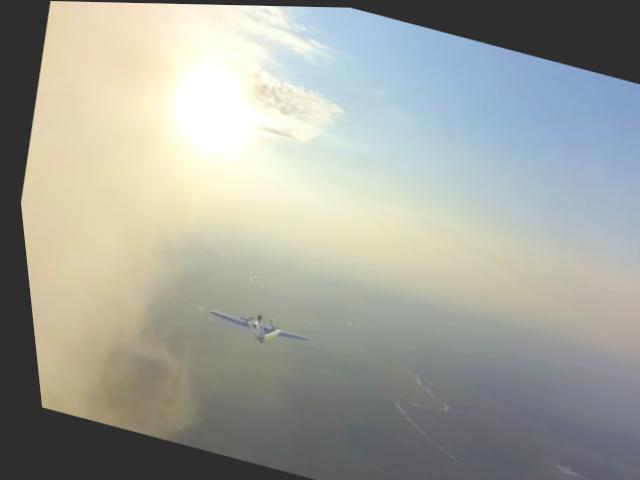uav: (192, 297, 308, 357)
